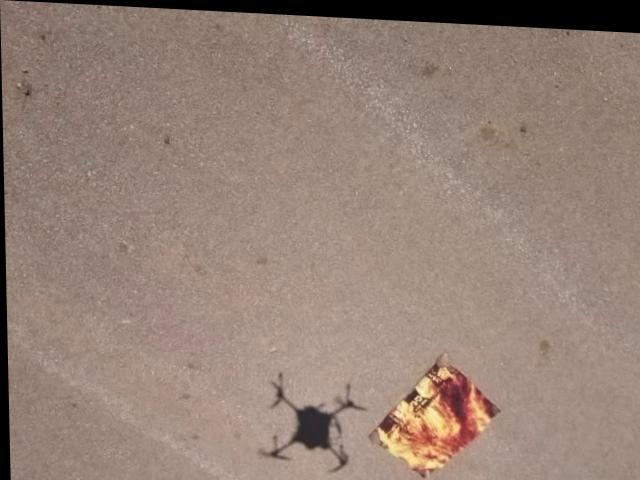fire-poster: (365, 345, 502, 479)
